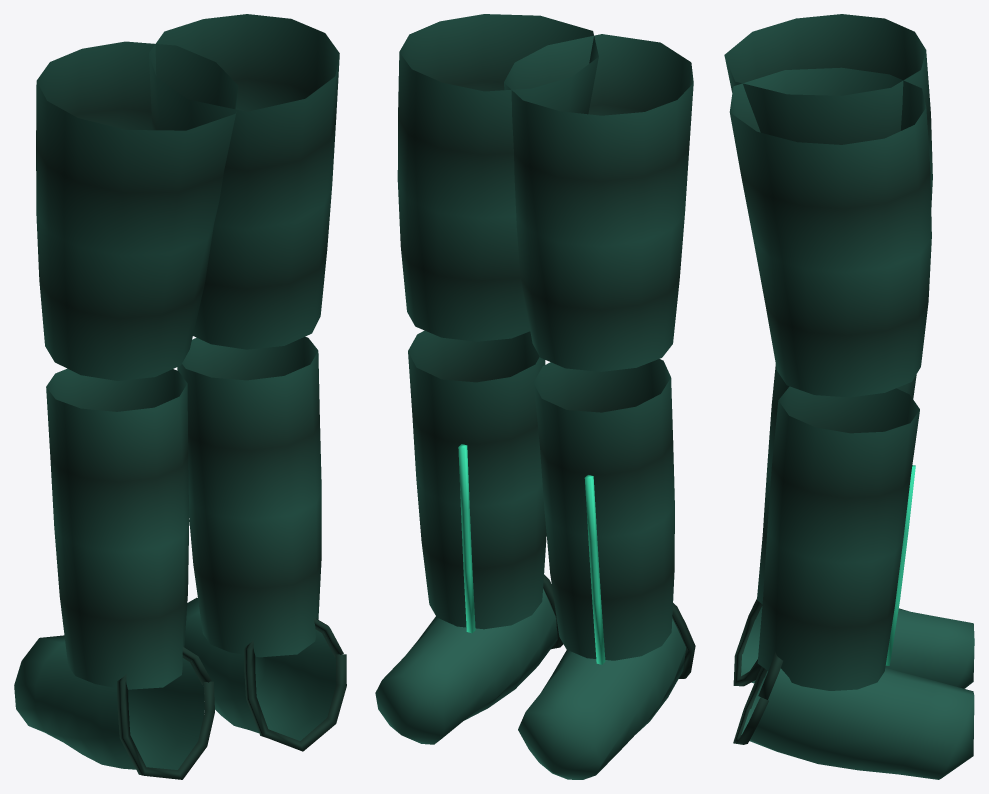
Rendered from vortex_leggings.glb.
3 renders of one model, left to right at view 1: azimuth 30°, elevation 25°; view 2: azimuth 150°, elevation 25°; view 3: azimuth 270°, elevation 25°, orthographic. The views are drawn at different scales.
Visible parts, largest first — view 1: vortex_leggings_cuisse.L; view 2: vortex_leggings_cuisse.L; view 3: vortex_leggings_cuisse.L.
Boxes of the visible parts, bbox=[...] form: vortex_leggings_cuisse.L: bbox=[14, 14, 346, 779]; vortex_leggings_cuisse.L: bbox=[375, 14, 695, 779]; vortex_leggings_cuisse.L: bbox=[724, 14, 974, 779].
Size of the model in its own units: 0.403 by 0.9485 by 0.3253.
